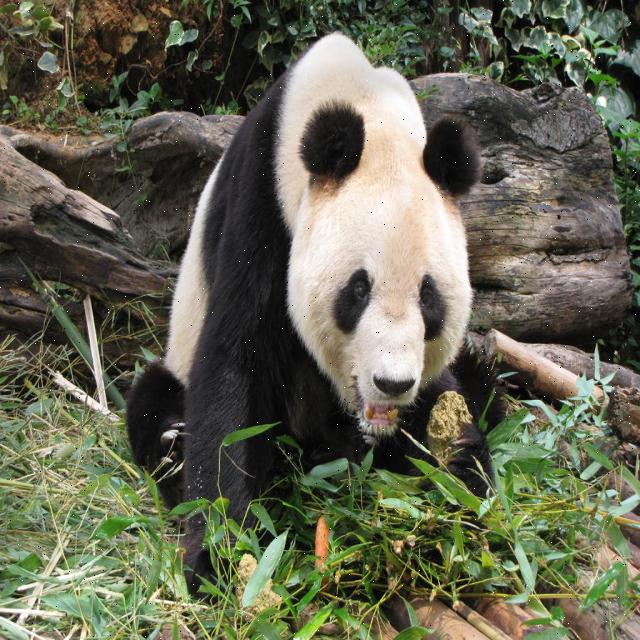panda: (124, 28, 512, 627)
